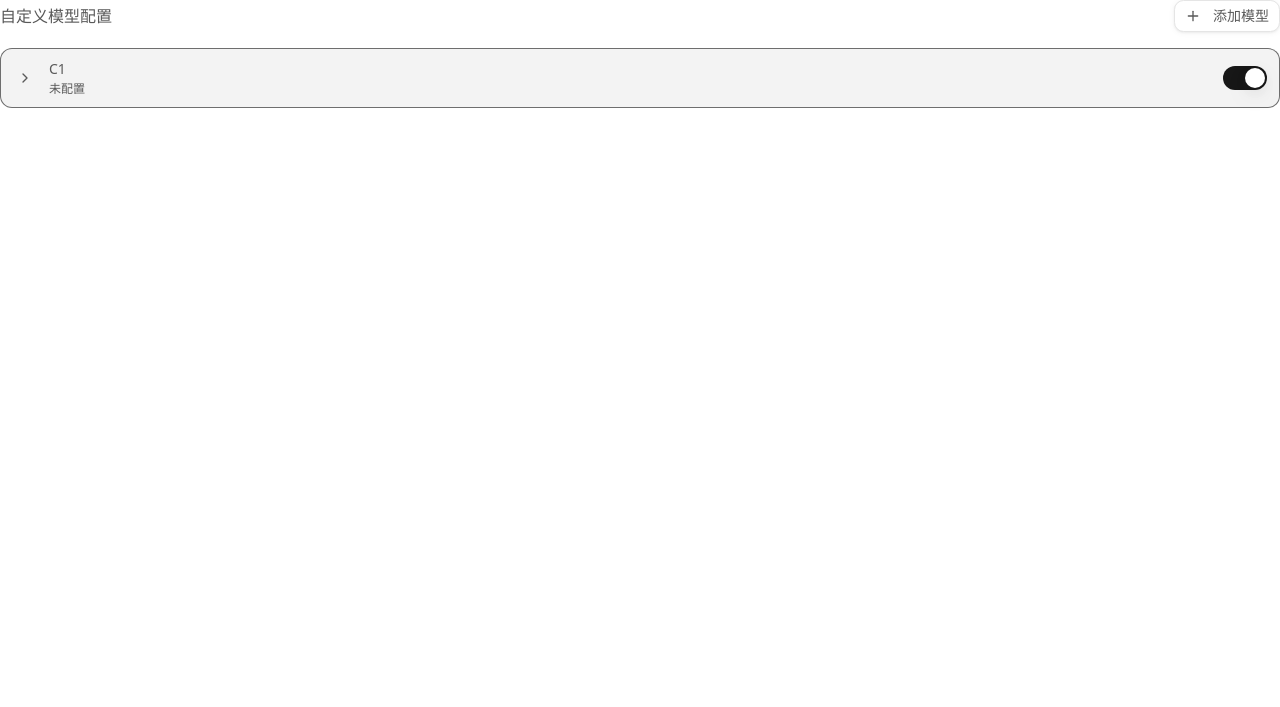
Test: CustomProviderCards › shows loading state while fetching models (button disabled + loading label)
The width and height of the screenshot is (1280, 707).
What coordinates should you click on to do the following:
click the button titled "展开配置"
I would click on:
 (25, 78)
Its box is [13,66,37,90].
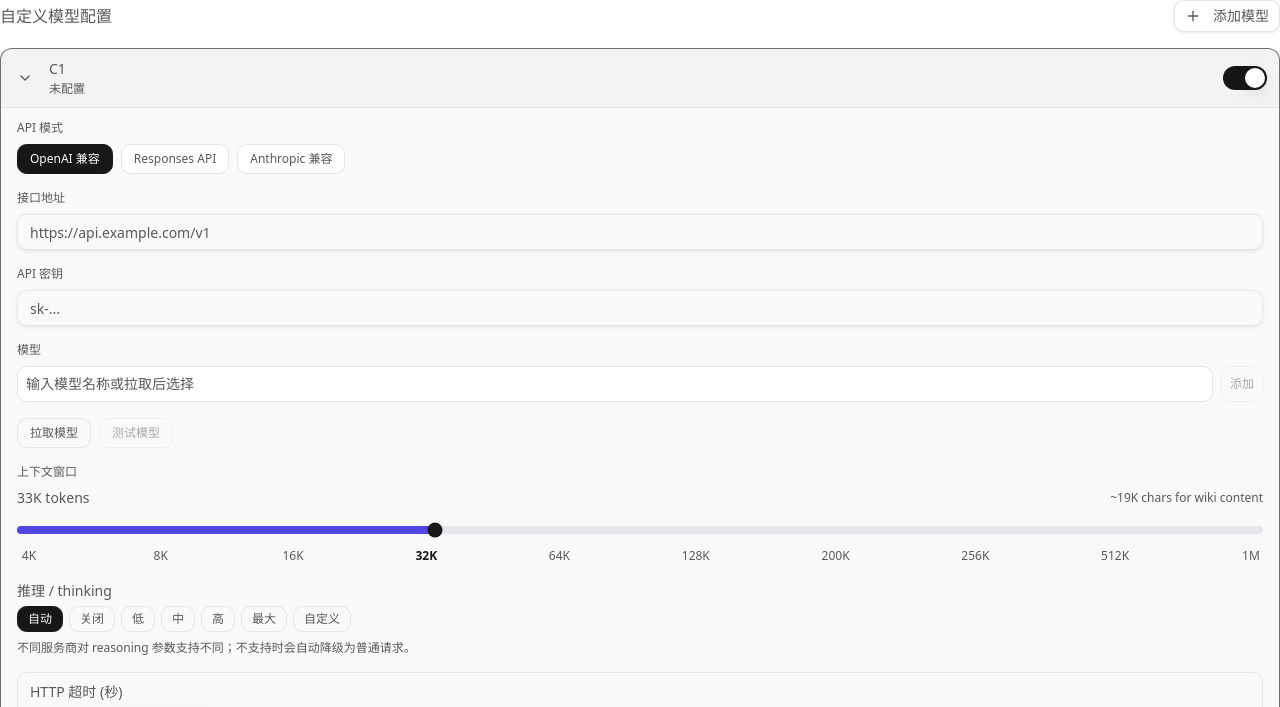
What coordinates should you click on to do the following:
click the button "拉取模型"
I would click on:
 (54, 433)
Its box is [17,418,91,448].
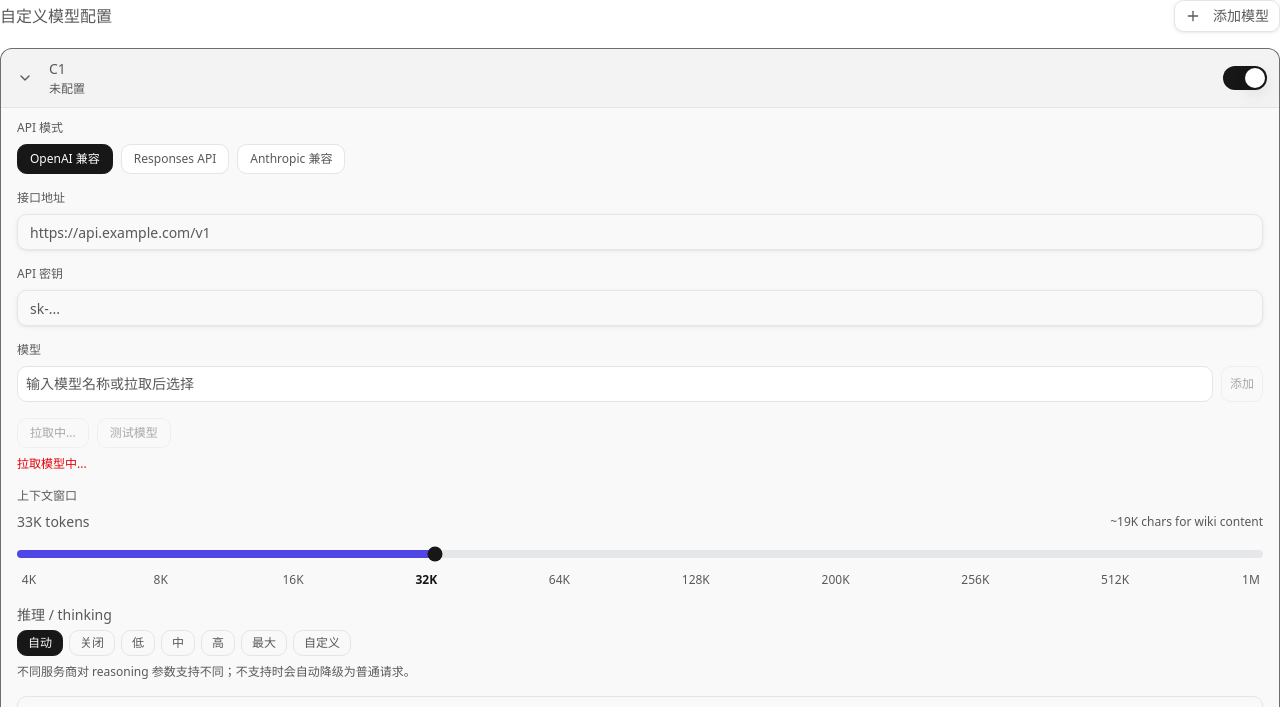
expect the button "测试模型" is disabled: met, box [97,418,171,448]
expect the button "拉取中..." is disabled: met, box [17,418,89,448]
